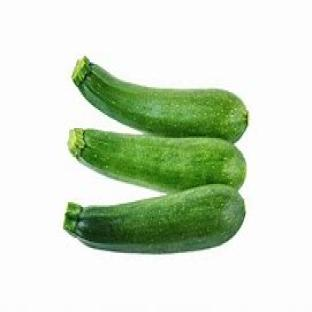Zucchini: (73, 58, 247, 141), (64, 184, 245, 252), (68, 129, 246, 190)
